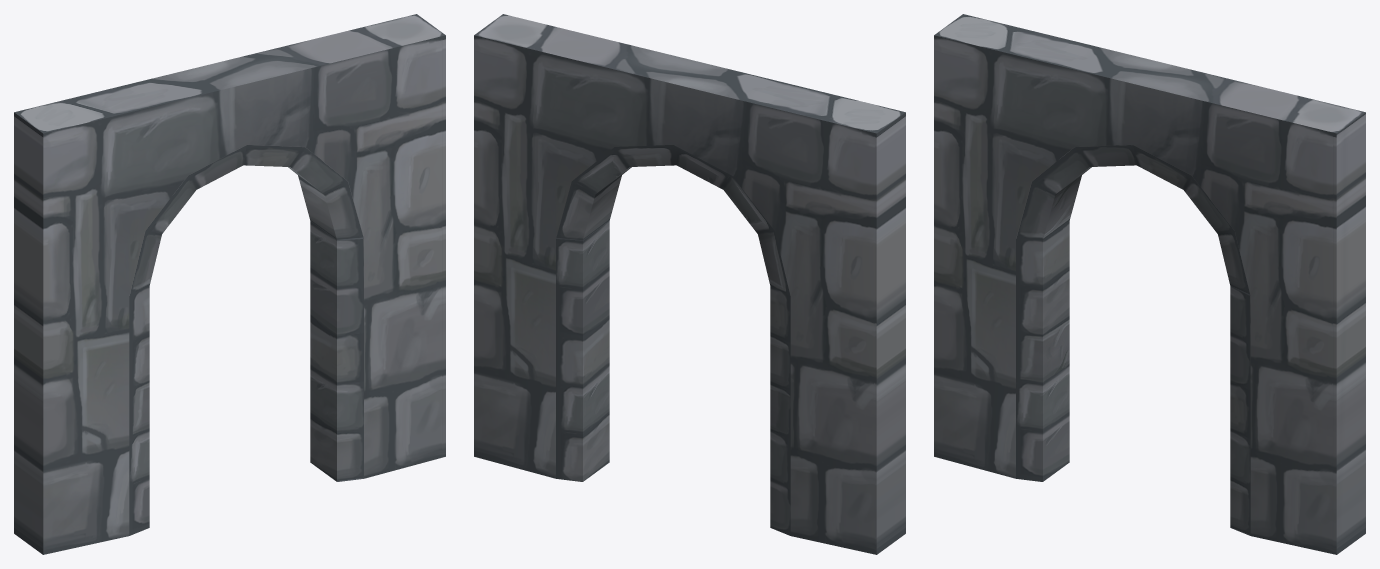
Rendered from Archway.001.fbx.
The picture shows the model from 3 angles, left to right: view 1: azimuth 30°, elevation 25°; view 2: azimuth 150°, elevation 25°; view 3: azimuth 330°, elevation 25°; orthographic projection.
Visible parts, largest first — view 1: Archway.001; view 2: Archway.001; view 3: Archway.001.
Boxes of the visible parts, x1,y1,x2,y2 form: Archway.001: (14, 14, 445, 554); Archway.001: (474, 14, 905, 554); Archway.001: (934, 14, 1365, 554).
Bounding box in the file's own units: 400 × 400 × 57.5.
